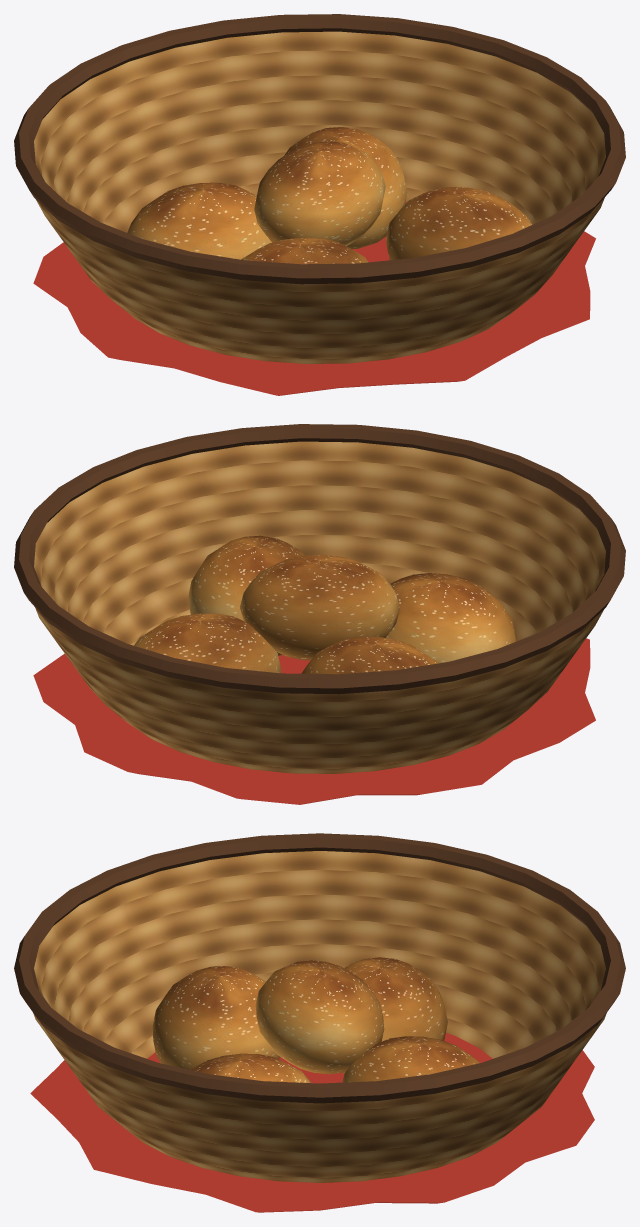
Rendered from tray_bread_basket_wicker.glb.
The picture shows the model from 3 angles, top to bottom: view 1: azimuth 30°, elevation 25°; view 2: azimuth 150°, elevation 25°; view 3: azimuth 270°, elevation 25°; orthographic projection.
Parts seen in each view (by area): view 1: tray_bread_basket_wicker; view 2: tray_bread_basket_wicker; view 3: tray_bread_basket_wicker.
Part boxes in pixels (<box>): tray_bread_basket_wicker: <box>14,14,625,395</box>; tray_bread_basket_wicker: <box>14,424,625,804</box>; tray_bread_basket_wicker: <box>14,833,625,1212</box>.
Bounding box in the file's own units: 0.306 × 0.0893 × 0.306.
4 materials, 2 textured.
